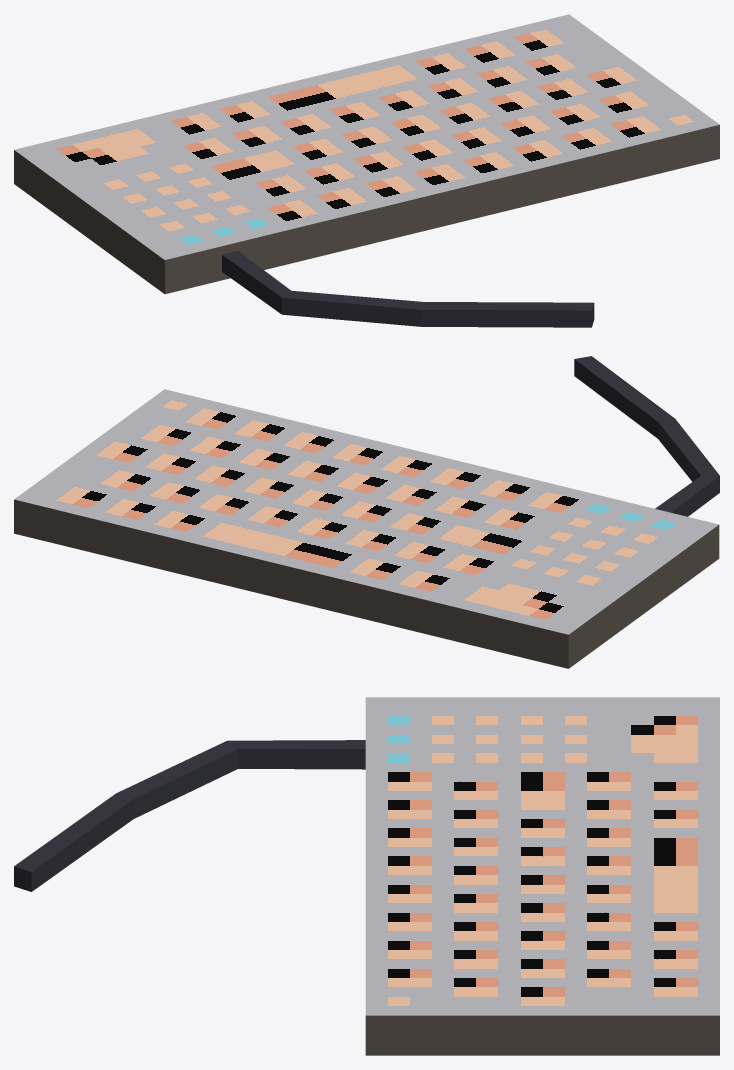
Rendered from Keyboard_Model.gltf.
The picture shows the model from 3 angles, top to bottom: view 1: azimuth 30°, elevation 25°; view 2: azimuth 150°, elevation 25°; view 3: azimuth 270°, elevation 25°; orthographic projection. The views are drawn at different scales.
Visible parts, largest first — view 1: mesh; view 2: mesh; view 3: mesh.
Part boxes in pixels (left/top/right/bottom): mesh: left=14, top=14, right=719, bottom=327; mesh: left=14, top=356, right=719, bottom=668; mesh: left=14, top=697, right=719, bottom=1055.
Bounding box in the file's own units: 2.12 × 0.125 × 1.99.
1 material, 1 textured.
